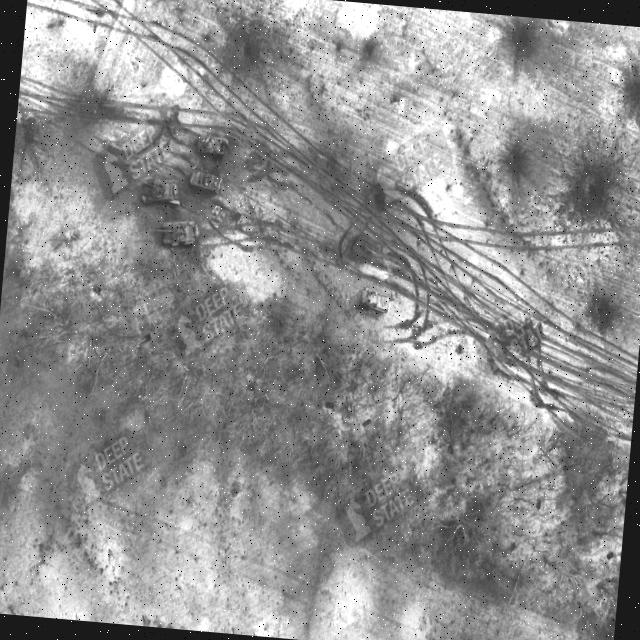AIFV: (188, 171, 223, 196), (359, 287, 392, 313)
Destroyed: (199, 137, 231, 158)
MBT: (131, 176, 179, 208), (153, 219, 201, 249)
